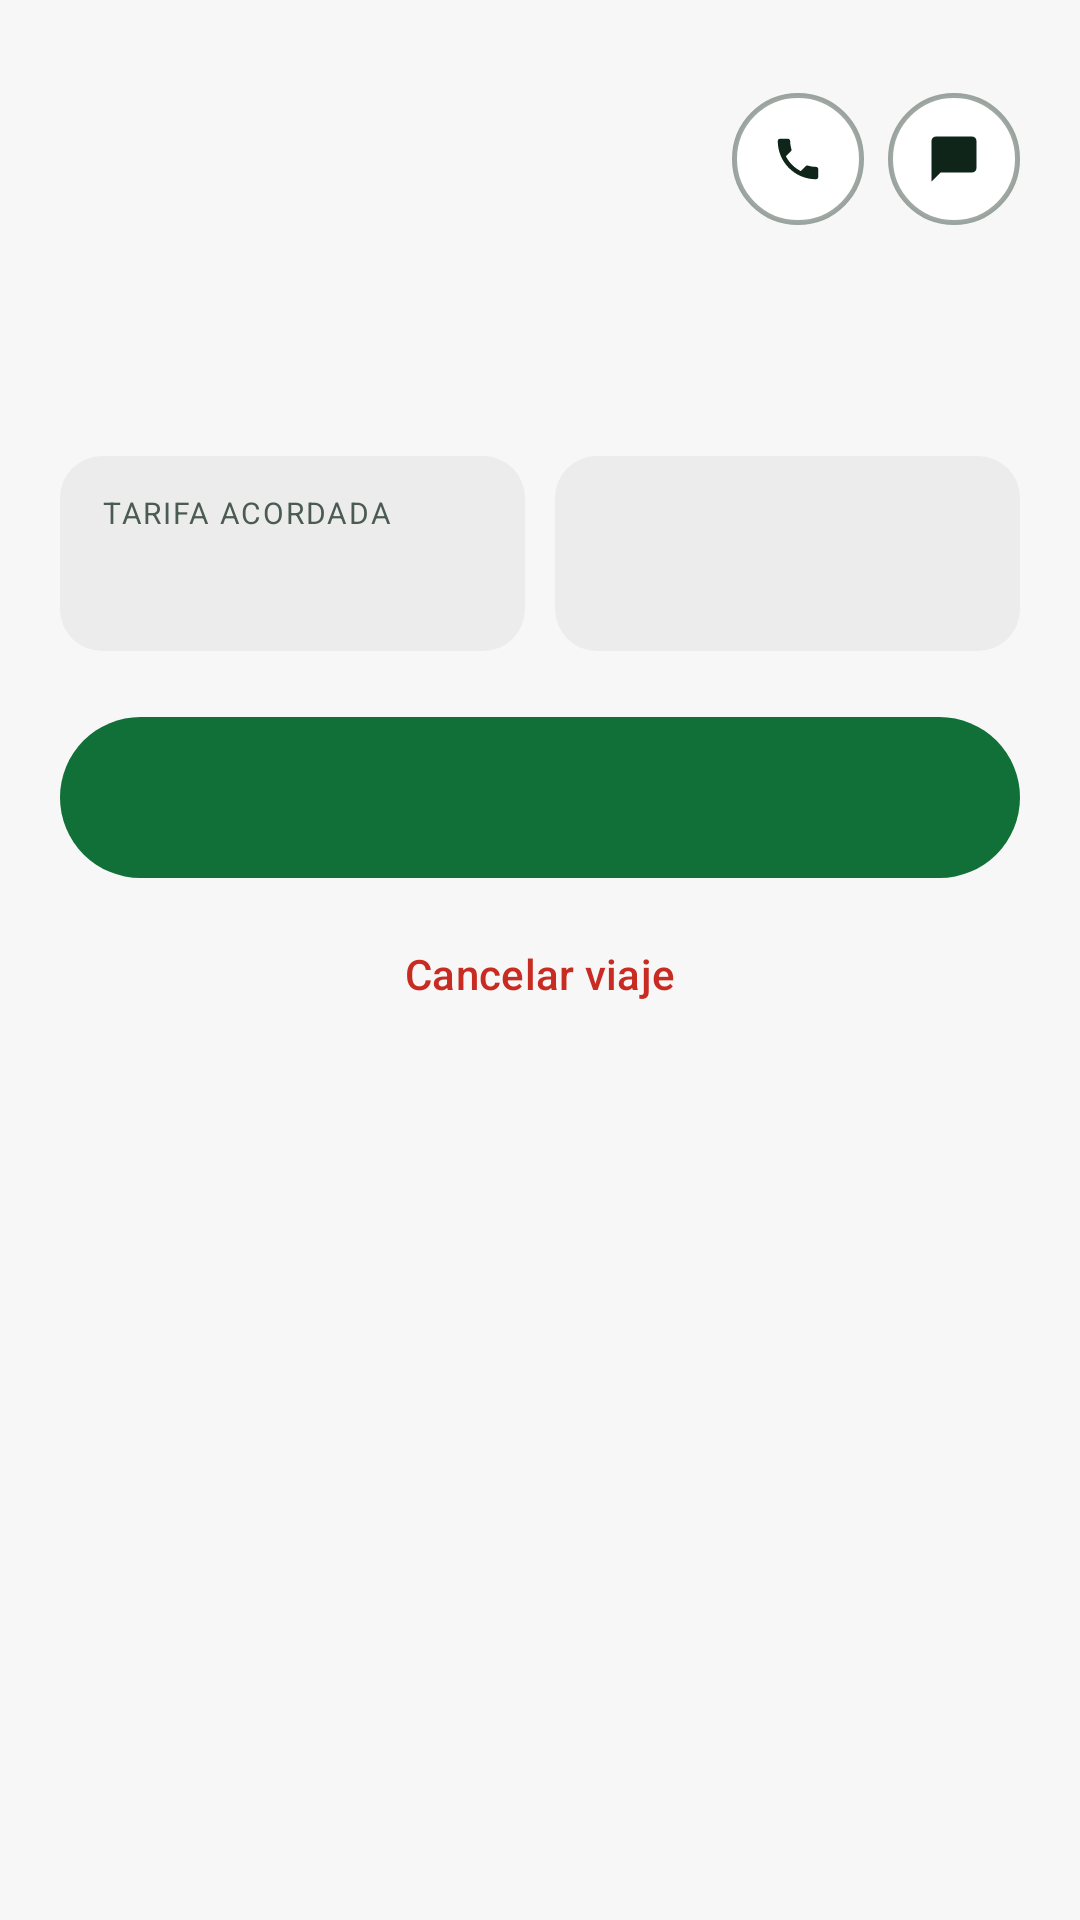

Icon click points for this 1080*1920 phone screenshot, format (x=x, y=y):
Llamar: (x=798, y=159)
Mensaje: (x=954, y=159)
